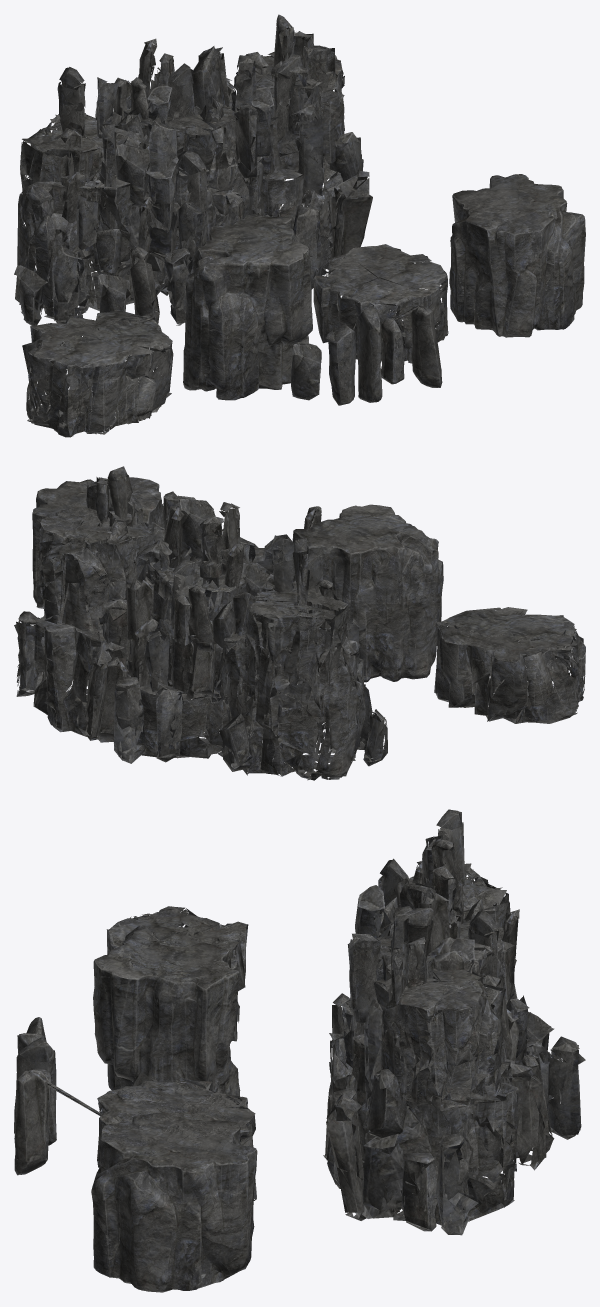
File: big-sea-rock.glb
The picture shows the model from 3 angles, top to bottom: view 1: azimuth 30°, elevation 25°; view 2: azimuth 150°, elevation 25°; view 3: azimuth 270°, elevation 25°; orthographic projection. The views are drawn at different scales.
Visible parts, largest first — view 1: Object003_Rock sea n4_0; view 2: Object003_Rock sea n4_0; view 3: Object003_Rock sea n4_0.
Part boxes in pixels (x1,y1,x2,y2): Object003_Rock sea n4_0: (14, 14, 585, 437); Object003_Rock sea n4_0: (14, 466, 585, 780); Object003_Rock sea n4_0: (14, 809, 585, 1292).
Bounding box in the file's own units: 0.9515 × 0.4231 × 0.7477.
1 material, 1 textured.
